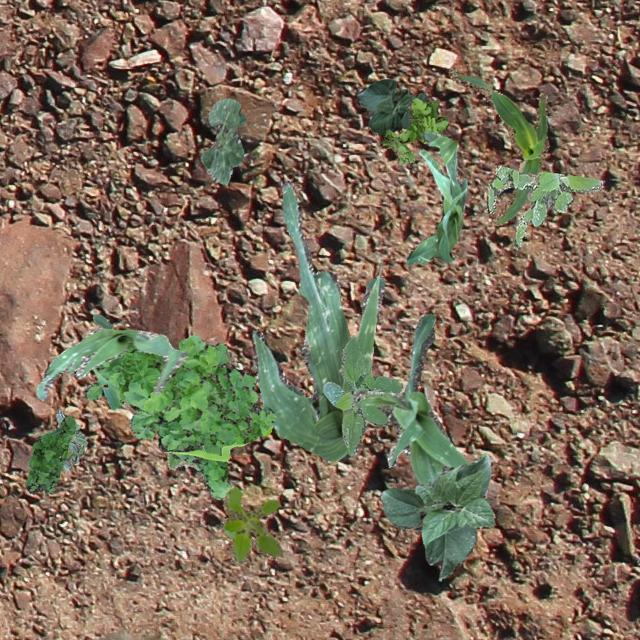crop: (252, 179, 384, 462), (351, 312, 468, 486), (448, 66, 548, 225), (379, 452, 494, 580), (34, 314, 188, 399), (406, 130, 466, 264), (356, 77, 426, 136), (200, 96, 246, 184), (167, 432, 220, 468)
weed: (83, 334, 274, 498), (486, 164, 604, 248), (322, 334, 402, 454), (378, 98, 448, 164), (222, 486, 280, 564), (24, 414, 74, 492), (54, 410, 86, 470)
